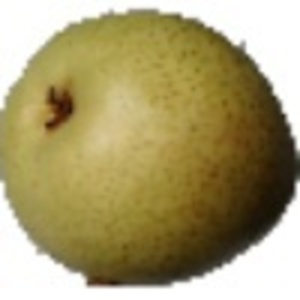pera: (1, 7, 300, 290)
